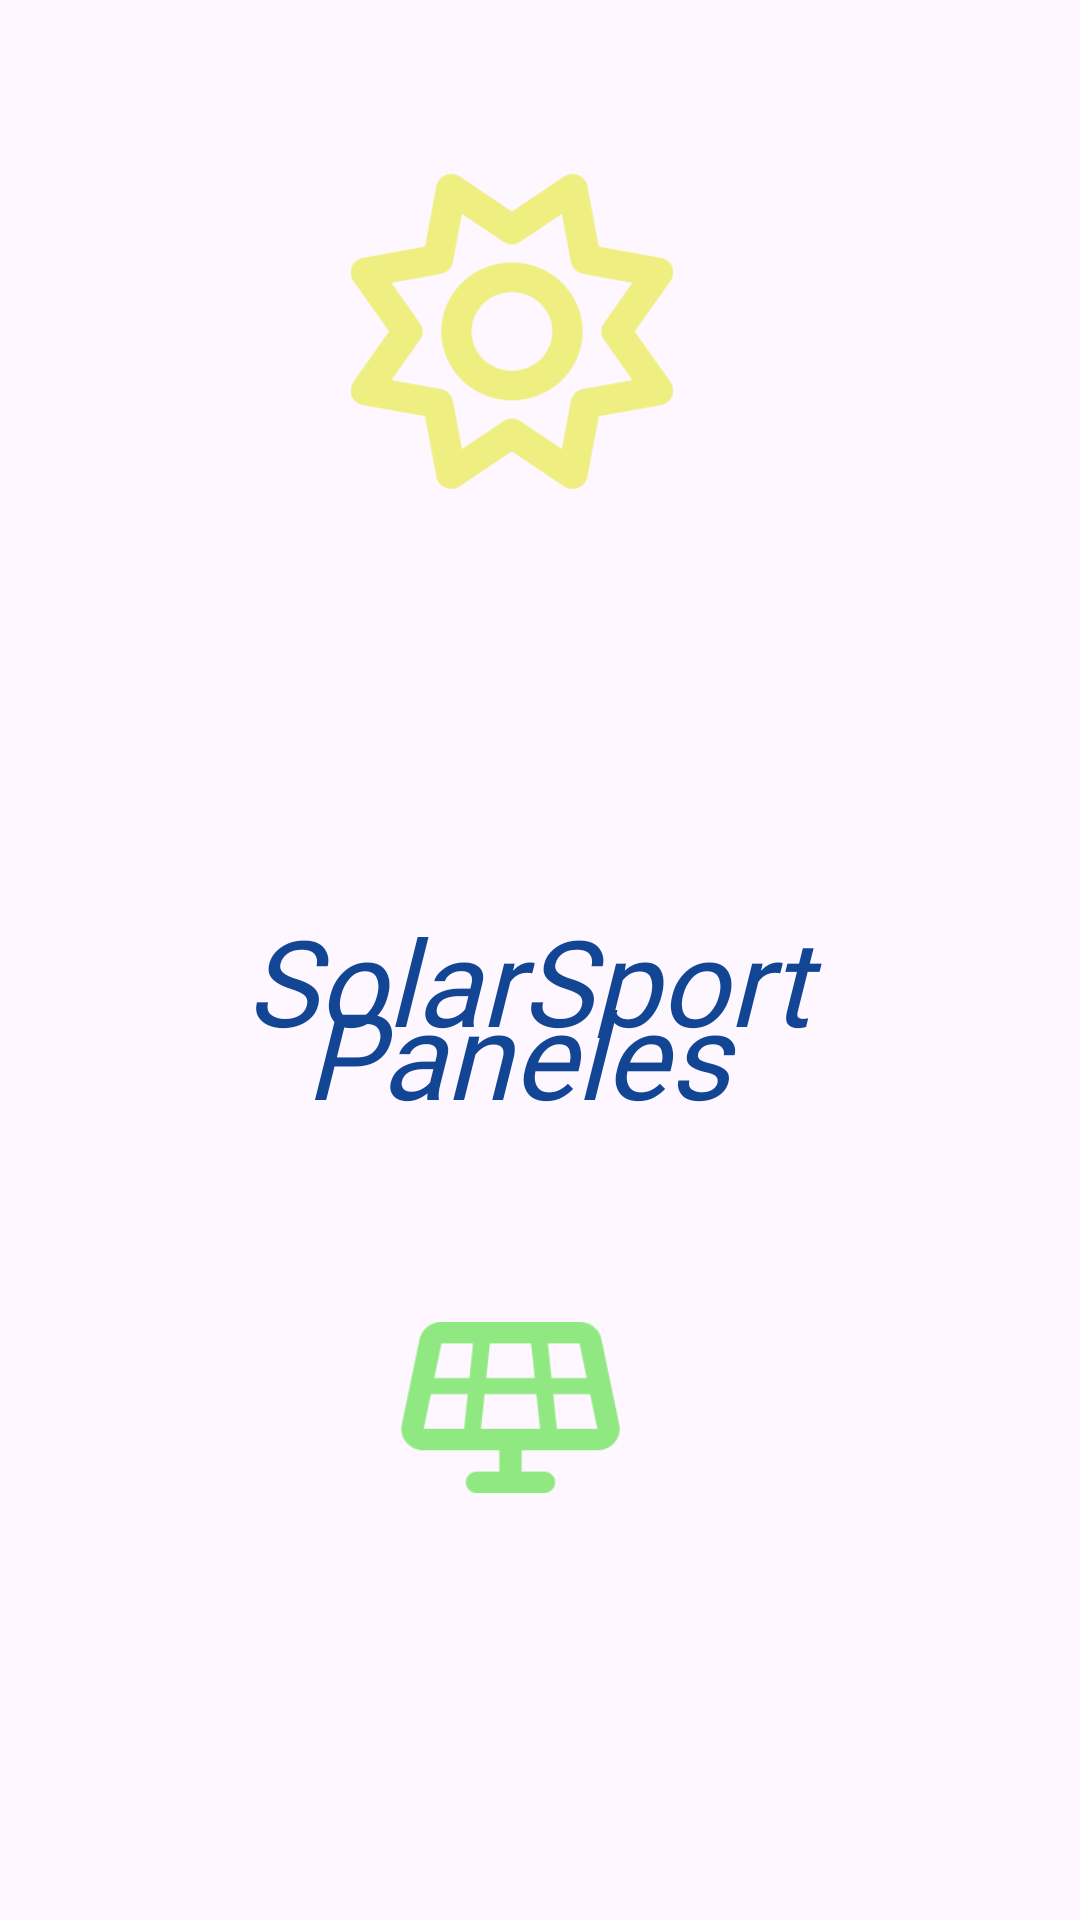

Locate icon controls on the screen. Image size 1080px x 1920px, boxes as BBox(x1, y1, x2, y2).
panel: BBox(401, 1322, 620, 1493)
sun: BBox(351, 174, 673, 489)
